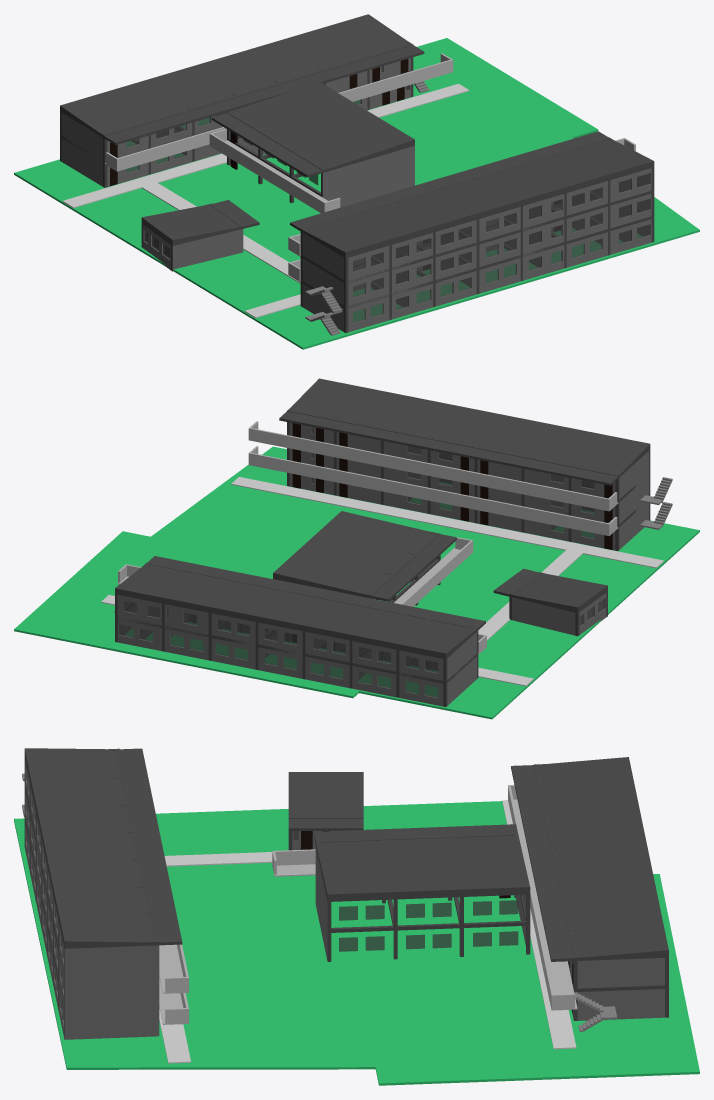
File: pabellon.glb
3 renders of one model, top to bottom at view 1: azimuth 30°, elevation 25°; view 2: azimuth 150°, elevation 25°; view 3: azimuth 270°, elevation 25°, orthographic. The views are drawn at different scales.
Parts seen in each view (by area): view 1: Terreno Real (PolÃgono), Techo Especial Z1 Secundaria - Nivel 2, Techo Especial Z1 Primaria - Nivel 3, Techo Especial Z1 SUM 2 - Nivel 2, Muros Primaria - Nivel 2, Muros Primaria - Nivel 1, Muros Primaria - Nivel 3, Balcon Secundaria - Nivel 2, Muros Secundaria - Nivel 2, Techo Especial Z1 Admin - Nivel 1, Pasadizo Secundaria - Nivel 1, Muros Secundaria - Nivel 1 (+13 smaller); view 2: Terreno Real (PolÃgono), Techo Especial Z1 Primaria - Nivel 3, Techo Especial Z1 Secundaria - Nivel 2, Techo Especial Z1 SUM 2 - Nivel 2, Muros Secundaria - Nivel 1, Muros Secundaria - Nivel 2, Balcon Primaria - Nivel 2, Balcon Primaria - Nivel 3, Muros Primaria - Nivel 1, Pasadizo Primaria - Nivel 1, Muros Primaria - Nivel 3, Muros Primaria - Nivel 2 (+12 smaller); view 3: Terreno Real (PolÃgono), Techo Especial Z1 Primaria - Nivel 3, Techo Especial Z1 Secundaria - Nivel 2, Techo Especial Z1 SUM 2 - Nivel 2, Techo Especial Z1 Admin - Nivel 1, Muros Primaria - Nivel 2, Muros Primaria - Nivel 3, Muros Primaria - Nivel 1, Balcon Secundaria - Nivel 2, Muros Secundaria - Nivel 2, Muros Secundaria - Nivel 1, Pasadizo Secundaria - Nivel 1 (+13 smaller).
Boxes of the visible parts, box(x1,y1,x2,y2) form: Terreno Real (PolÃgono): box(14, 38, 699, 349); Techo Especial Z1 Secundaria - Nivel 2: box(60, 14, 424, 145); Techo Especial Z1 Primaria - Nivel 3: box(290, 131, 654, 258); Techo Especial Z1 SUM 2 - Nivel 2: box(211, 82, 414, 177); Muros Primaria - Nivel 2: box(302, 185, 651, 308); Muros Primaria - Nivel 1: box(302, 204, 651, 332); Muros Primaria - Nivel 3: box(302, 168, 651, 283); Balcon Secundaria - Nivel 2: box(104, 53, 453, 171); Muros Secundaria - Nivel 2: box(61, 58, 410, 162); Techo Especial Z1 Admin - Nivel 1: box(141, 200, 259, 245); Pasadizo Secundaria - Nivel 1: box(62, 83, 469, 208); Muros Secundaria - Nivel 1: box(61, 85, 410, 186); Terreno Real (PolÃgono): box(14, 446, 699, 719); Techo Especial Z1 Primaria - Nivel 3: box(279, 378, 650, 485); Techo Especial Z1 Secundaria - Nivel 2: box(115, 556, 485, 659); Techo Especial Z1 SUM 2 - Nivel 2: box(273, 511, 456, 601); Muros Secundaria - Nivel 1: box(117, 603, 476, 706); Muros Secundaria - Nivel 2: box(117, 595, 476, 682); Balcon Primaria - Nivel 2: box(248, 446, 618, 536); Balcon Primaria - Nivel 3: box(248, 421, 618, 511); Muros Primaria - Nivel 1: box(289, 473, 648, 550); Pasadizo Primaria - Nivel 1: box(231, 477, 663, 568); Muros Primaria - Nivel 3: box(289, 422, 648, 499); Muros Primaria - Nivel 2: box(289, 448, 648, 523); Terreno Real (PolÃgono): box(14, 801, 699, 1085); Techo Especial Z1 Primaria - Nivel 3: box(24, 748, 182, 948); Techo Especial Z1 Secundaria - Nivel 2: box(511, 757, 668, 961); Techo Especial Z1 SUM 2 - Nivel 2: box(313, 824, 530, 901); Techo Especial Z1 Admin - Nivel 1: box(288, 772, 363, 830); Muros Primaria - Nivel 2: box(25, 790, 159, 1010); Muros Primaria - Nivel 3: box(25, 759, 159, 979); Muros Primaria - Nivel 1: box(25, 821, 159, 1039); Balcon Secundaria - Nivel 2: box(508, 785, 577, 1010); Muros Secundaria - Nivel 2: box(568, 957, 664, 988); Muros Secundaria - Nivel 1: box(572, 989, 664, 1020); Pasadizo Secundaria - Nivel 1: box(502, 800, 576, 1049).
Size of what is drawn, in the model's own units: 53.41 by 8.9 by 53.98.
